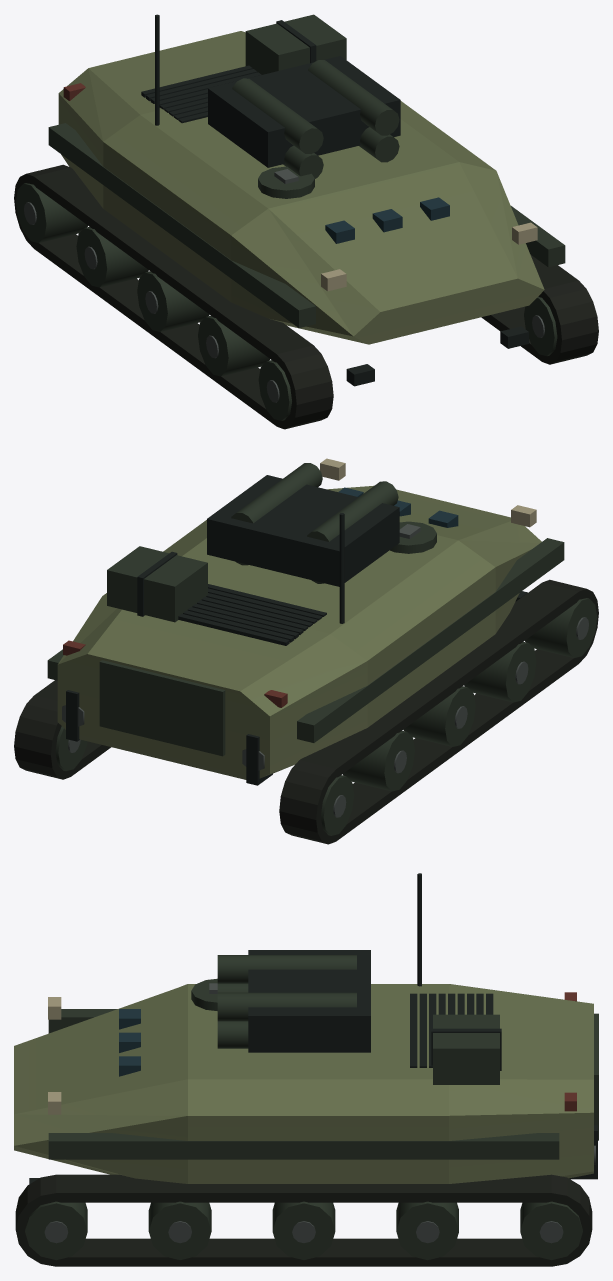
Rendered from tankDestroyer-lod.glb.
3 views of the same model, one above another, from view 1: azimuth 30°, elevation 25°; view 2: azimuth 150°, elevation 25°; view 3: azimuth 270°, elevation 25° (orthographic).
Parts seen in each view (by area): view 1: equipment (×2); view 2: equipment (×2); view 3: equipment (×2).
Boxes of the visible parts, x1=… form: equipment (×2): x1=14, y1=14, x2=598, y2=429; equipment (×2): x1=14, y1=458, x2=598, y2=844; equipment (×2): x1=14, y1=873, x2=598, y2=1266.
Size of the model in its own units: 3.29 by 2.68 by 5.24.
